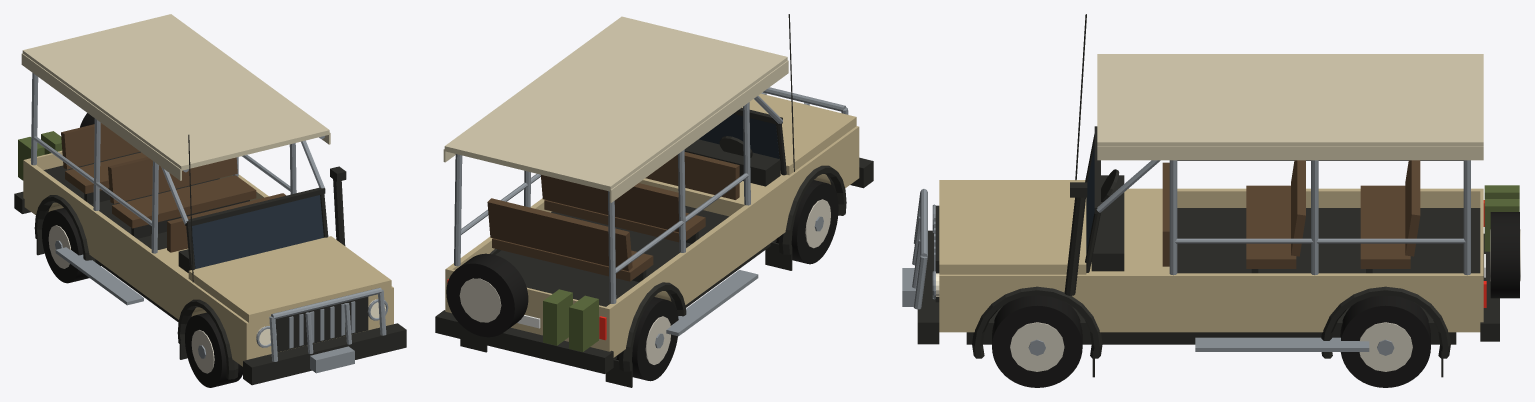
Rendered from jeep.glb.
3 renders of one model, left to right at view 1: azimuth 30°, elevation 25°; view 2: azimuth 150°, elevation 25°; view 3: azimuth 270°, elevation 25°, orthographic. The views are drawn at different scales.
Parts seen in each view (by area): view 1: canvas31, paint0, paint2, glass10, trim45, seat15, seat16, trim35, seat19, canvas32_mx, tyre65, tyre62 (+19 smaller); view 2: canvas31, paint0, seat19, trim1, seat16, tyre58, paint2, trim56, canvas32_mx, seat13, tyre65, tyre62 (+23 smaller); view 3: canvas31, paint0, paint2, trim1, canvas32, tyre71, tyre68, seat18, seat15, trim5, tyre58, steel6 (+19 smaller).
Boxes of the visible parts, x1=… form: canvas31: x1=22, y1=14, x2=329, y2=170; paint0: x1=23, y1=150, x2=393, y2=366; paint2: x1=188, y1=236, x2=391, y2=322; glass10: x1=192, y1=195, x2=323, y2=268; trim45: x1=243, y1=323, x2=406, y2=385; seat15: x1=112, y1=175, x2=256, y2=228; seat16: x1=108, y1=157, x2=237, y2=203; trim35: x1=275, y1=297, x2=368, y2=352; seat19: x1=61, y1=123, x2=139, y2=169; canvas32_mx: x1=21, y1=53, x2=181, y2=180; tyre65: x1=185, y1=312, x2=242, y2=387; tyre62: x1=42, y1=208, x2=100, y2=283; canvas31: x1=444, y1=16, x2=787, y2=191; paint0: x1=445, y1=126, x2=859, y2=357; seat19: x1=487, y1=198, x2=632, y2=271; trim1: x1=495, y1=206, x2=728, y2=306; seat16: x1=541, y1=175, x2=678, y2=232; tyre58: x1=446, y1=253, x2=528, y2=337; paint2: x1=742, y1=93, x2=856, y2=175; trim56: x1=435, y1=310, x2=613, y2=373; canvas32_mx: x1=609, y1=60, x2=788, y2=202; seat13: x1=645, y1=152, x2=739, y2=199; tyre65: x1=776, y1=180, x2=838, y2=264; tyre62: x1=616, y1=297, x2=678, y2=381; canvas31: x1=1097, y1=54, x2=1483, y2=146; paint0: x1=939, y1=188, x2=1483, y2=332; paint2: x1=939, y1=180, x2=1086, y2=274; trim1: x1=1177, y1=208, x2=1480, y2=295; canvas32: x1=1097, y1=146, x2=1483, y2=160; tyre71: x1=992, y1=295, x2=1082, y2=387; tyre68: x1=1340, y1=296, x2=1430, y2=387; seat18: x1=1360, y1=185, x2=1410, y2=268; seat15: x1=1246, y1=185, x2=1296, y2=268; trim5: x1=966, y1=306, x2=1456, y2=344; tyre58: x1=1490, y1=212, x2=1519, y2=298; steel6: x1=1195, y1=337, x2=1369, y2=351.
Size of the model in its own units: 2.28 by 2.9 by 5.68.
